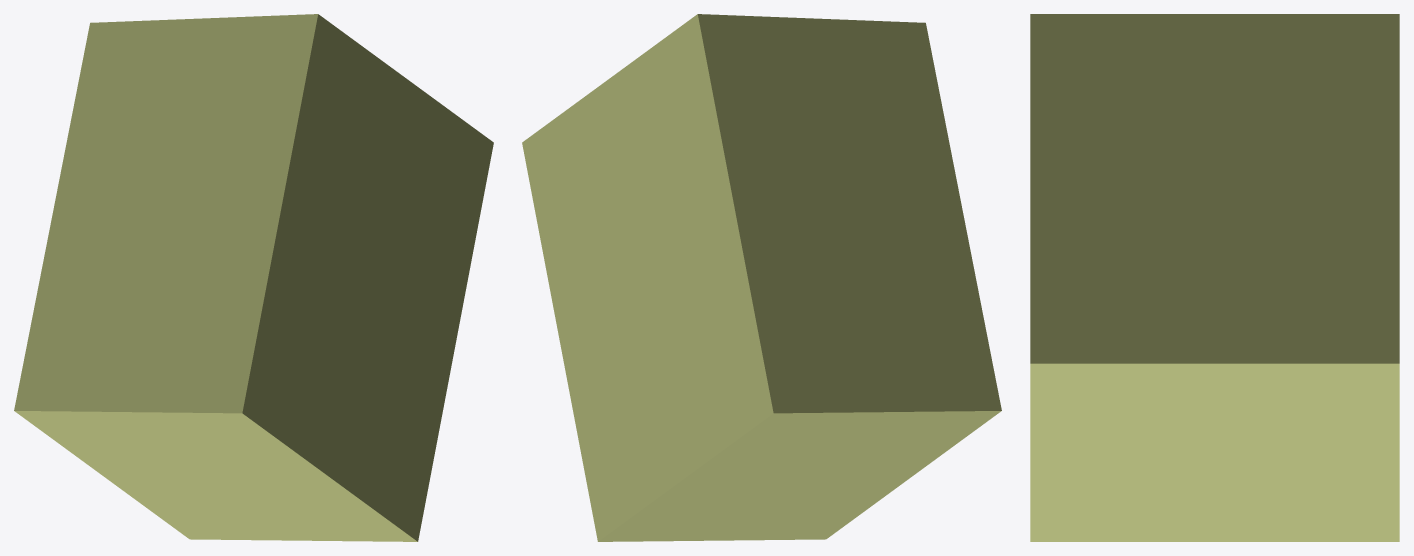
3 renders of one model, left to right at view 1: azimuth 30°, elevation 25°; view 2: azimuth 150°, elevation 25°; view 3: azimuth 270°, elevation 25°, orthographic. The views are drawn at different scales.
Visible parts, largest first — view 1: 0_1_0_0_2_2_2_0_1_0; view 2: 0_1_0_0_2_2_2_0_1_0; view 3: 0_1_0_0_2_2_2_0_1_0.
Boxes of the visible parts, bbox=[...] form: 0_1_0_0_2_2_2_0_1_0: bbox=[14, 14, 493, 541]; 0_1_0_0_2_2_2_0_1_0: bbox=[522, 14, 1001, 541]; 0_1_0_0_2_2_2_0_1_0: bbox=[1030, 14, 1399, 541].
Bounding box in the file's own units: 6 × 8.06 × 6.
